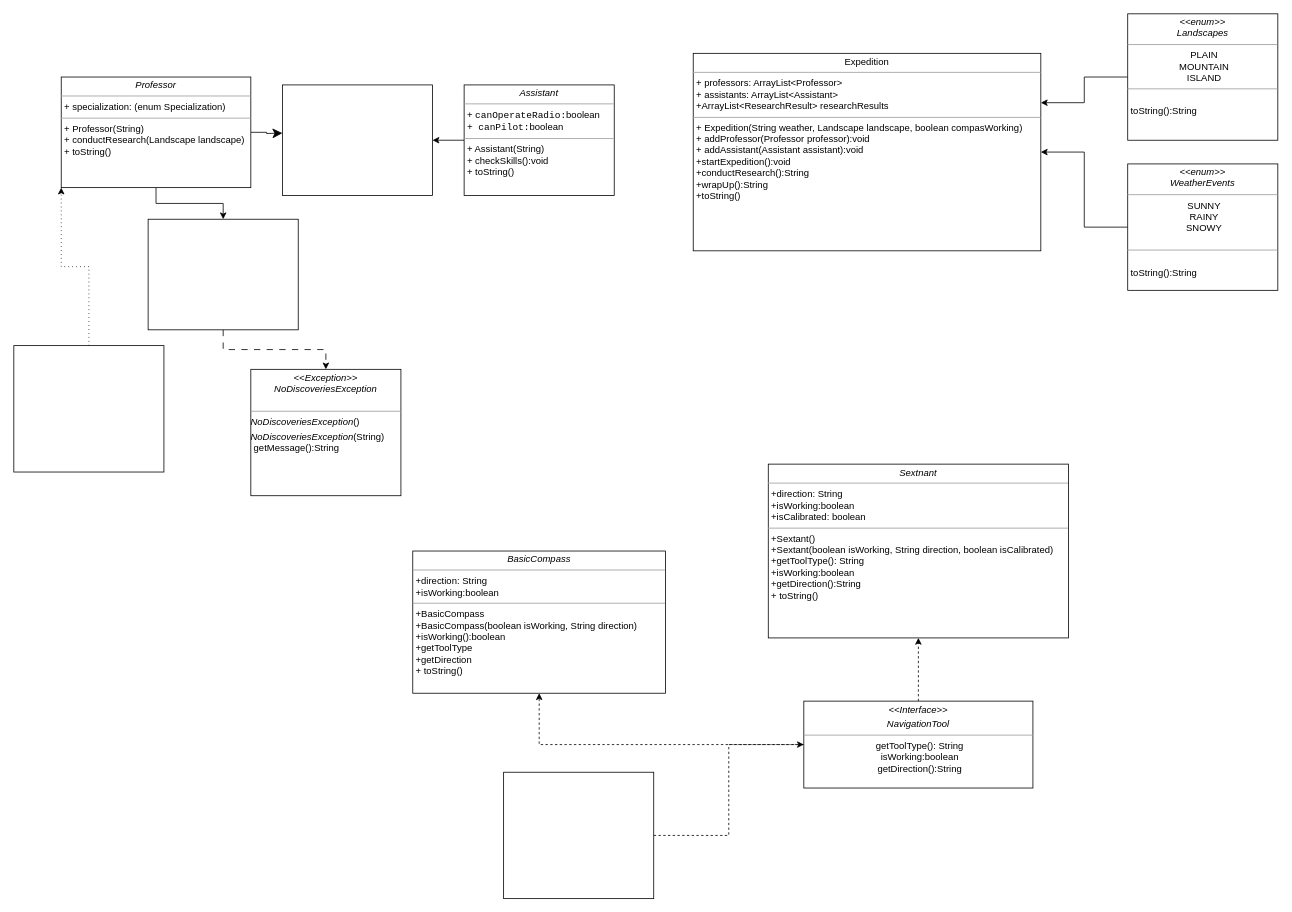
The diagram is 1292 pixels wide and 912 high, and some of its shapes have lost their labels. The shapes that lost their labels are listed below. From the top down, each one's centre as x and y in pixels, then its label:
At point 357,140: "Human + name: String + Human() + Human(String) + getName():String".
At point 222,274: "ResearchResult + researcherName: String + finding: String +getResearch():String".
At point 88,408: "<<enum>> Specializations PHYSICIST GEOLOGIST BIOLOGIST toString():String".
At point 578,835: "<<enum>> Direction EAST WEST NORTH SOUTH toString():String".
